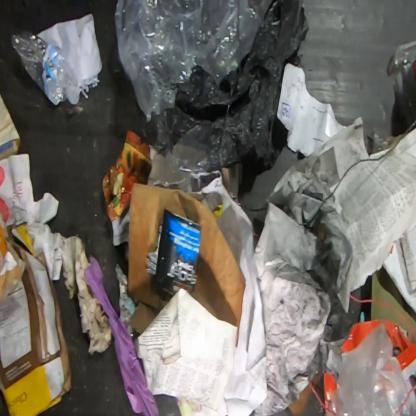cardboard: (126, 183, 246, 326), (0, 222, 72, 415), (341, 321, 416, 401), (372, 267, 415, 343), (323, 373, 337, 409)
rigid_plastic: (12, 30, 79, 107), (387, 41, 415, 132)
soft_plastic: (142, 1, 310, 201), (115, 0, 274, 123), (324, 325, 415, 415), (142, 122, 204, 189)
